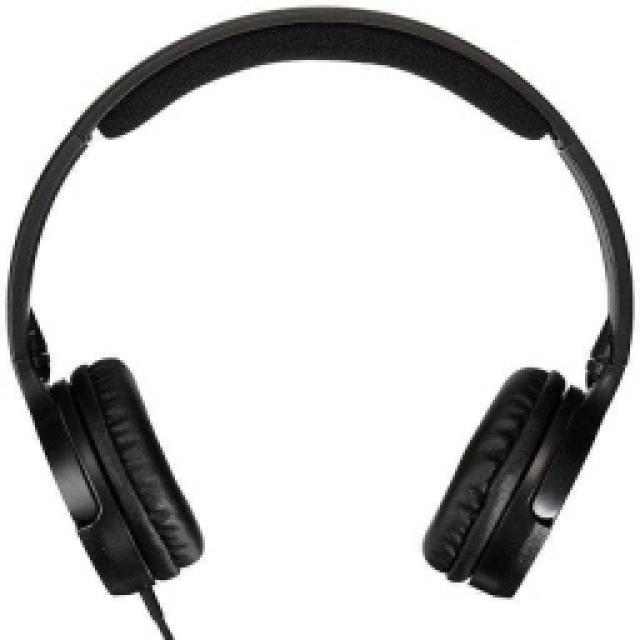headphones: (3, 2, 635, 638)
